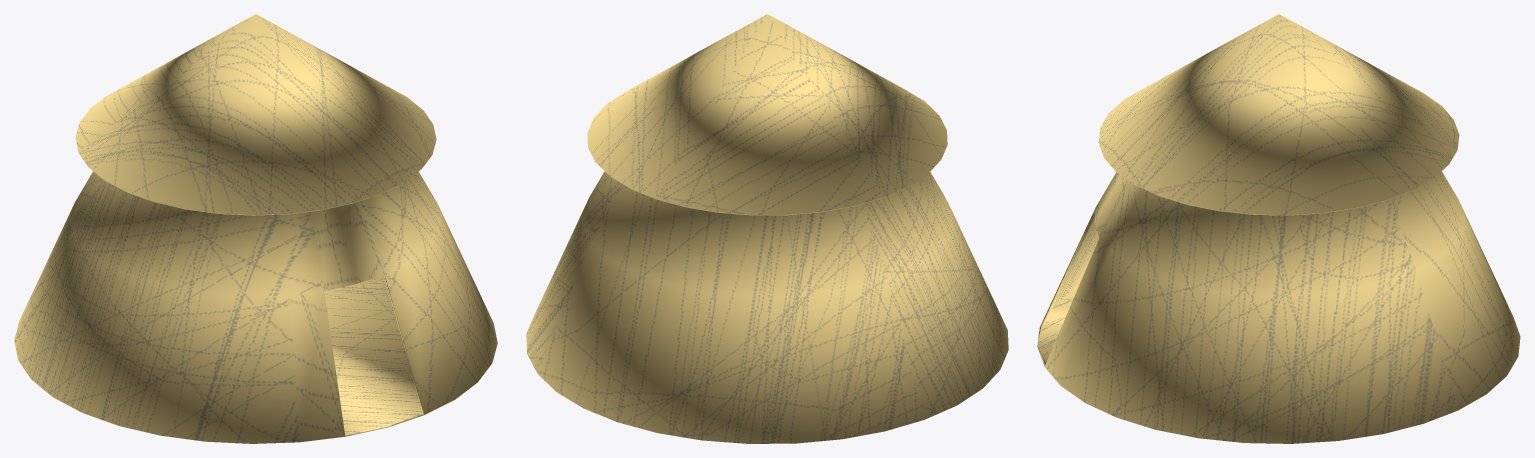
Rendered from tatemono.fbx.
The picture shows the model from 3 angles, left to right: view 1: azimuth 30°, elevation 25°; view 2: azimuth 150°, elevation 25°; view 3: azimuth 270°, elevation 25°; orthographic projection.
Parts seen in each view (by area): view 1: 円錐; view 2: 円錐; view 3: 円錐.
Boxes of the visible parts, left/top/right/bottom form: 円錐: left=14, top=14, right=497, bottom=443; 円錐: left=526, top=14, right=1008, bottom=443; 円錐: left=1037, top=14, right=1520, bottom=443.
Size of the model in its own units: 1022 by 765 by 1022.
1 material, 1 textured.
